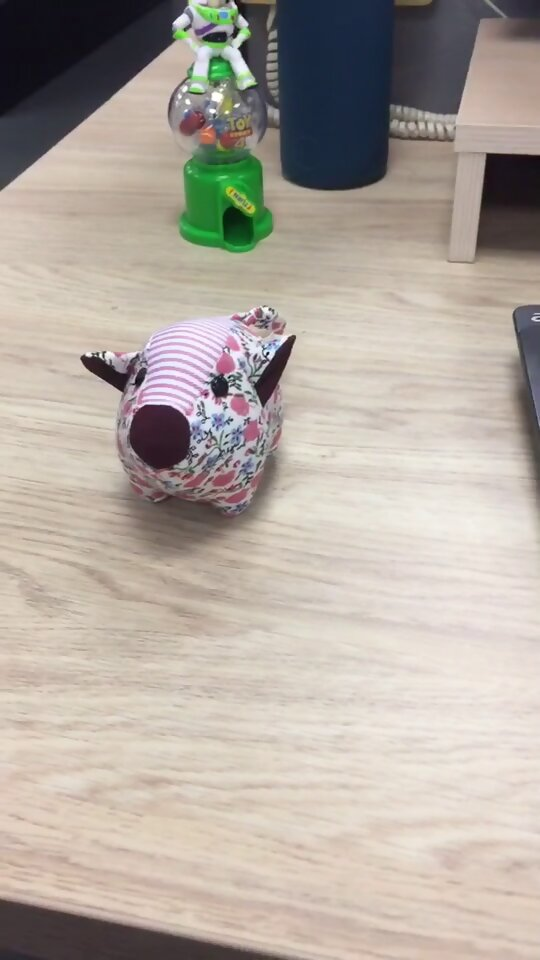pig: (74, 301, 304, 524)
